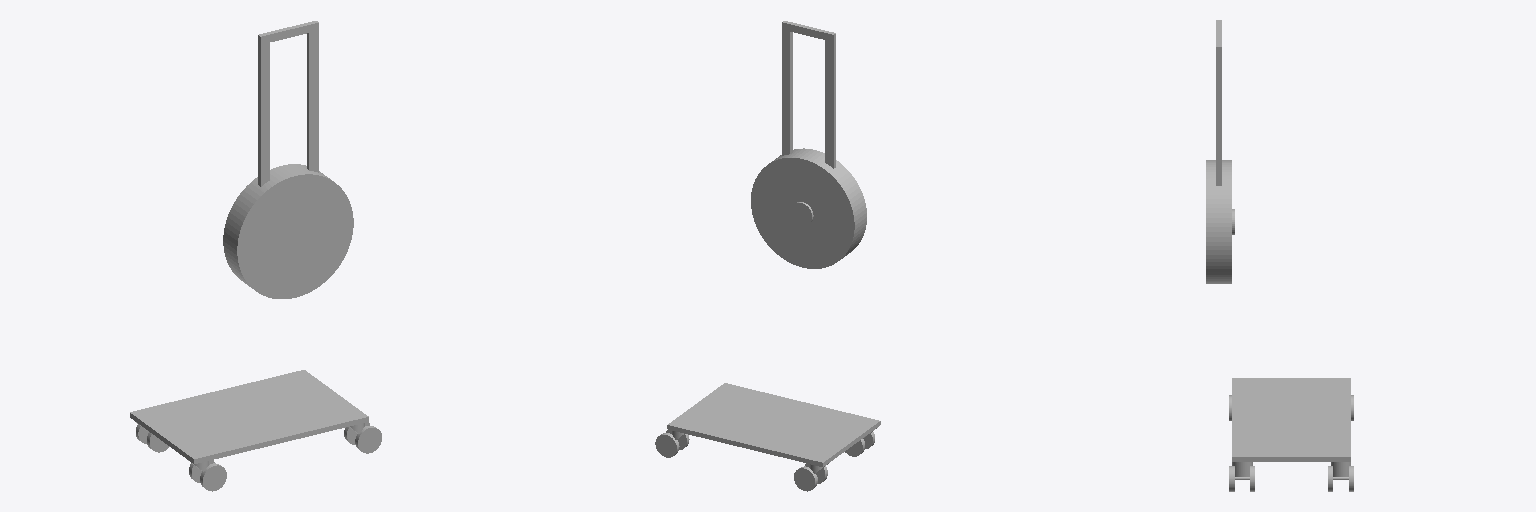
robot.urdf — assembly_final_urdf:
<?xml version="1.0"?>
<robot name="assembly_final_urdf">

  <!-- simple inline material since xacro includes are removed -->
  <material name="silver">
    <color rgba="0.75 0.75 0.75 1.0"/>
  </material>

  <!-- 1) Dummy world link -->
  <link name="world"/>

  <!-- 2) Connect world → base_link with a floating joint -->
  <joint name="world_to_base" type="floating">
    <parent link="world"/>
    <child  link="base_link"/>
    <origin xyz="0 0 0" rpy="0 0 0"/>
  </joint>

  <link name="base_link">
    <inertial>
      <origin xyz="0.17999999999999997 0.115 0.005003006827026274" rpy="0 0 0"/>
      <mass value="0.9847218407587564"/>
      <inertia ixx="0.004346" iyy="0.010634" izz="0.014964" ixy="-0.0" iyz="0.0" ixz="-0.0"/>
    </inertial>
    <visual>
      <origin xyz="0 0 0" rpy="0 0 0"/>
      <geometry>
        <mesh filename="package://assembly_final_urdf_description/meshes/base_link.stl" scale="0.001 0.001 0.001"/>
      </geometry>
      <material name="silver"/>
    </visual>
    <collision>
      <origin xyz="0 0 0" rpy="0 0 0"/>
      <geometry>
        <mesh filename="package://assembly_final_urdf_description/meshes/base_link.stl" scale="0.001 0.001 0.001"/>
      </geometry>
    </collision>
  </link>

  <link name="FR_wheelbase_1">
    <inertial>
      <origin xyz="0.004854891037663869 0.0 -0.01224396424044122" rpy="0 0 0"/>
      <mass value="0.026348088954006088"/>
      <inertia ixx="5e-06" iyy="4e-06" izz="5e-06" ixy="-0.0" iyz="0.0" ixz="1e-06"/>
    </inertial>
    <visual>
      <origin xyz="-0.02 -0.21 -0.0001" rpy="0 0 0"/>
      <geometry>
        <mesh filename="package://assembly_final_urdf_description/meshes/FR_wheelbase_1.stl" scale="0.001 0.001 0.001"/>
      </geometry>
      <material name="silver"/>
    </visual>
  </link>

  <link name="RR_wheelbase_1">
    <inertial>
      <origin xyz="0.004821350892733667 -2.7755575615628914e-17 -0.012195503618703826" rpy="0 0 0"/>
      <mass value="0.02614973311170209"/>
      <inertia ixx="5e-06" iyy="4e-06" izz="5e-06" ixy="-0.0" iyz="0.0" ixz="1e-06"/>
    </inertial>
    <visual>
      <origin xyz="-0.34 -0.21 -0.0001" rpy="0 0 0"/>
      <geometry>
        <mesh filename="package://assembly_final_urdf_description/meshes/RR_wheelbase_1.stl" scale="0.001 0.001 0.001"/>
      </geometry>
      <material name="silver"/>
    </visual>
  </link>

  <link name="FL_wheelbase_1">
    <inertial>
      <origin xyz="0.0048548910376638756 -1.0408340855860843e-17 -0.012243964240441205" rpy="0 0 0"/>
      <mass value="0.02634808895400608"/>
      <inertia ixx="5e-06" iyy="4e-06" izz="5e-06" ixy="-0.0" iyz="-0.0" ixz="1e-06"/>
    </inertial>
    <visual>
      <origin xyz="-0.02 -0.02 -0.0001" rpy="0 0 0"/>
      <geometry>
        <mesh filename="package://assembly_final_urdf_description/meshes/FL_wheelbase_1.stl" scale="0.001 0.001 0.001"/>
      </geometry>
      <material name="silver"/>
    </visual>
  </link>

  <link name="RL_wheelbase_1">
    <inertial>
      <origin xyz="0.004821350892733667 -2.7755575615628914e-17 -0.012195503618703807" rpy="0 0 0"/>
      <mass value="0.02614973311170209"/>
      <inertia ixx="5e-06" iyy="4e-06" izz="5e-06" ixy="-0.0" iyz="-0.0" ixz="1e-06"/>
    </inertial>
    <visual>
      <origin xyz="-0.34 -0.02 -0.0001" rpy="0 0 0"/>
      <geometry>
        <mesh filename="package://assembly_final_urdf_description/meshes/RL_wheelbase_1.stl" scale="0.001 0.001 0.001"/>
      </geometry>
      <material name="silver"/>
    </visual>
  </link>

  <link name="FL_wheel_1">
    <inertial>
      <origin xyz="5.988265439071938e-15 -3.469446951953614e-18 1.3877787807814457e-17" rpy="0 0 0"/>
      <mass value="0.04246628391615553"/>
      <inertia ixx="2.4e-05" iyy="1.3e-05" izz="2.4e-05" ixy="-0.0" iyz="0.0" ixz="0.0"/>
    </inertial>
    <visual>
      <origin xyz="-0.04 -0.02 0.0349" rpy="0 0 0"/>
      <geometry>
        <mesh filename="package://assembly_final_urdf_description/meshes/FL_wheel_1.stl" scale="0.001 0.001 0.001"/>
      </geometry>
      <material name="silver"/>
    </visual>
    <collision>
      <origin xyz="-0.04 -0.02 0.0349" rpy="0 0 0"/>
      <geometry>
        <mesh filename="package://assembly_final_urdf_description/meshes/FL_wheel_1.stl" scale="0.001 0.001 0.001"/>
      </geometry>
    </collision>
  </link>

  <link name="RR_wheel_1">
    <inertial>
      <origin xyz="-1.3006670518400654e-07 0.0 -2.0816681711721685e-17" rpy="0 0 0"/>
      <mass value="0.042466283916155555"/>
      <inertia ixx="2.4e-05" iyy="1.3e-05" izz="2.4e-05" ixy="0.0" iyz="-0.0" ixz="0.0"/>
    </inertial>
    <visual>
      <origin xyz="-0.35992 -0.21 0.0349" rpy="0 0 0"/>
      <geometry>
        <mesh filename="package://assembly_final_urdf_description/meshes/RR_wheel_1.stl" scale="0.001 0.001 0.001"/>
      </geometry>
      <material name="silver"/>
    </visual>
    <collision>
      <origin xyz="-0.35992 -0.21 0.0349" rpy="0 0 0"/>
      <geometry>
        <mesh filename="package://assembly_final_urdf_description/meshes/RR_wheel_1.stl" scale="0.001 0.001 0.001"/>
      </geometry>
    </collision>
  </link>

  <link name="FR_wheel_1">
    <inertial>
      <origin xyz="6.0021432268797525e-15 0.0 1.3877787807814457e-17" rpy="0 0 0"/>
      <mass value="0.04246628391615553"/>
      <inertia ixx="2.4e-05" iyy="1.3e-05" izz="2.4e-05" ixy="0.0" iyz="0.0" ixz="0.0"/>
    </inertial>
    <visual>
      <origin xyz="-0.04 -0.21 0.0349" rpy="0 0 0"/>
      <geometry>
        <mesh filename="package://assembly_final_urdf_description/meshes/FR_wheel_1.stl" scale="0.001 0.001 0.001"/>
      </geometry>
      <material name="silver"/>
    </visual>
    <collision>
      <origin xyz="-0.04 -0.21 0.0349" rpy="0 0 0"/>
      <geometry>
        <mesh filename="package://assembly_final_urdf_description/meshes/FR_wheel_1.stl" scale="0.001 0.001 0.001"/>
      </geometry>
    </collision>
  </link>

  <link name="RL_wheel_1">
    <inertial>
      <origin xyz="-1.3006670512849539e-07 6.245004513516506e-17 0.0" rpy="0 0 0"/>
      <mass value="0.042466283916155555"/>
      <inertia ixx="2.4e-05" iyy="1.3e-05" izz="2.4e-05" ixy="-0.0" iyz="0.0" ixz="0.0"/>
    </inertial>
    <visual>
      <origin xyz="-0.35992 -0.02 0.0349" rpy="0 0 0"/>
      <geometry>
        <mesh filename="package://assembly_final_urdf_description/meshes/RL_wheel_1.stl" scale="0.001 0.001 0.001"/>
      </geometry>
      <material name="silver"/>
    </visual>
    <collision>
      <origin xyz="-0.35992 -0.02 0.0349" rpy="0 0 0"/>
      <geometry>
        <mesh filename="package://assembly_final_urdf_description/meshes/RL_wheel_1.stl" scale="0.001 0.001 0.001"/>
      </geometry>
    </collision>
  </link>

  <link name="luggage_case_1">
    <inertial>
      <origin xyz="1.0432210650890283e-12 0.11521688237327213 0.17177721373500104" rpy="0 0 0"/>
      <mass value="5.398014230764779"/>
      <inertia ixx="0.219835" iyy="0.247344" izz="0.11771" ixy="-0.0" iyz="-0.000228" ixz="0.0"/>
    </inertial>

    <collision>
      <origin xyz="0.0 0.115 0.29688" rpy="0 0 0"/>
      <geometry>
        <box size="0.36 0.23 0.5"/>
      </geometry>
    </collision>
  </link>

  <link name="rotating_handle_1">
    <inertial>
      <origin xyz="-1.0524914273446484e-13 -0.024887555090611486 0.014429098880656632" rpy="0 0 0"/>
      <mass value="2.545063688003066"/>
      <inertia ixx="0.01956" iyy="0.028005" izz="0.009462" ixy="-0.0" iyz="4e-06" ixz="-0.0"/>
    </inertial>
    <visual>
      <origin xyz="-0.18 0.0 -0.426188" rpy="0 0 0"/>
      <geometry>
        <mesh filename="package://assembly_final_urdf_description/meshes/rotating_handle_1.stl" scale="0.001 0.001 0.001"/>
      </geometry>
      <material name="silver"/>
    </visual>
    <collision>
      <origin xyz="-0.18 0.0 -0.426188" rpy="0 0 0"/>
      <geometry>
        <mesh filename="package://assembly_final_urdf_description/meshes/rotating_handle_1.stl" scale="0.001 0.001 0.001"/>
      </geometry>
    </collision>
  </link>

  <joint name="Revolute 1" type="continuous">
    <origin xyz="0.02 0.21 0.0001" rpy="0 0 0"/>
    <parent link="base_link"/>
    <child link="FR_wheelbase_1"/>
    <axis xyz="0.0 0.0 -1.0"/>
  </joint>

  <joint name="Revolute 2" type="continuous">
    <origin xyz="0.34 0.21 0.0001" rpy="0 0 0"/>
    <parent link="base_link"/>
    <child link="RR_wheelbase_1"/>
    <axis xyz="0.0 0.0 -1.0"/>
  </joint>

  <joint name="Revolute 3" type="continuous">
    <origin xyz="0.02 0.02 0.0001" rpy="0 0 0"/>
    <parent link="base_link"/>
    <child link="FL_wheelbase_1"/>
    <axis xyz="0.0 0.0 -1.0"/>
  </joint>

  <joint name="Revolute 4" type="continuous">
    <origin xyz="0.34 0.02 0.0001" rpy="0 0 0"/>
    <parent link="base_link"/>
    <child link="RL_wheelbase_1"/>
    <axis xyz="0.0 0.0 -1.0"/>
  </joint>

  <joint name="Revolute 5" type="continuous">
    <origin xyz="0.02 0.0 -0.035" rpy="0 0 0"/>
    <parent link="FL_wheelbase_1"/>
    <child link="FL_wheel_1"/>
    <axis xyz="0.0 1.0 0.0"/>
  </joint>

  <joint name="Revolute 6" type="continuous">
    <origin xyz="0.01992 0.0 -0.035" rpy="0 0 0"/>
    <parent link="RR_wheelbase_1"/>
    <child link="RR_wheel_1"/>
    <axis xyz="0.0 1.0 0.0"/>
  </joint>

  <joint name="Revolute 7" type="continuous">
    <origin xyz="0.02 0.0 -0.035" rpy="0 0 0"/>
    <parent link="FR_wheelbase_1"/>
    <child link="FR_wheel_1"/>
    <axis xyz="0.0 1.0 0.0"/>
  </joint>

  <joint name="Revolute 8" type="continuous">
    <origin xyz="0.01992 0.0 -0.035" rpy="0 0 0"/>
    <parent link="RL_wheelbase_1"/>
    <child link="RL_wheel_1"/>
    <axis xyz="0.0 1.0 0.0"/>
  </joint>

  <joint name="Revolute_motor" type="revolute">
    <origin xyz="0.18 0.0 0.06" rpy="0 0 0"/>
    <parent link="base_link"/>
    <child link="luggage_case_1"/>
    <axis xyz="0.0 -1.0 0.0"/>
    <limit lower="-0.5236" upper="0.5236" effort="3.0" velocity="6.2832"/>
  </joint>

  <joint name="Revolute_handle" type="continuous">
    <origin xyz="0.0 -0.0 0.366188" rpy="0 0 0"/>
    <parent link="luggage_case_1"/>
    <child link="rotating_handle_1"/>
    <axis xyz="0.0 -1.0 -0.0"/>
  </joint>

</robot>


--- Render facts (derived) ---
3 views of the same robot in one strip: view 1: azimuth 30°, elevation 25°; view 2: azimuth 150°, elevation 25°; view 3: azimuth 270°, elevation 25° (orthographic).
Robot: assembly_final_urdf — 12 links, 11 joints (1 revolute, 9 continuous, 1 floating); root link world; default pose: all joints at 0.
Visible links, largest first — view 1: rotating_handle_1, base_link, FL_wheel_1, RL_wheel_1; view 2: rotating_handle_1, base_link, FR_wheel_1, RR_wheel_1; view 3: base_link, rotating_handle_1.
Link boxes in pixels (bbox=[...]): rotating_handle_1: bbox=[223, 21, 353, 298]; base_link: bbox=[130, 370, 368, 463]; FL_wheel_1: bbox=[189, 460, 226, 491]; RL_wheel_1: bbox=[344, 422, 381, 453]; rotating_handle_1: bbox=[751, 21, 866, 268]; base_link: bbox=[667, 383, 880, 466]; FR_wheel_1: bbox=[794, 463, 827, 491]; RR_wheel_1: bbox=[655, 430, 689, 457]; base_link: bbox=[1232, 378, 1350, 461]; rotating_handle_1: bbox=[1206, 20, 1234, 283].
Bounding box of the posed robot: 0.3849 × 0.285 × 0.8861 m (x, y, z).
10 mesh visuals loaded from 10 distinct referenced files (10 binary STL).